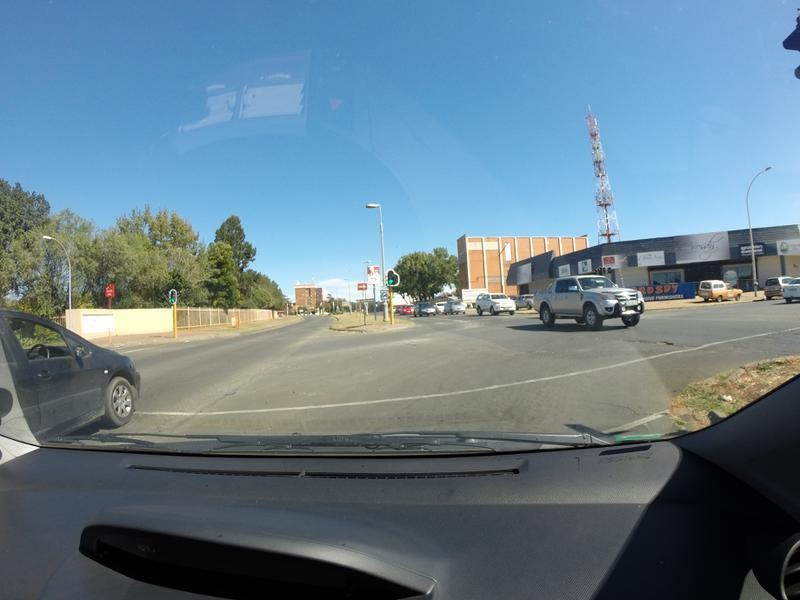pothole: (638, 336, 688, 346)
